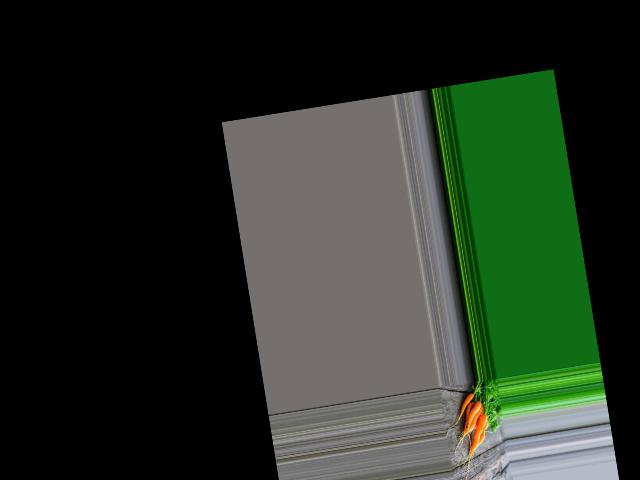carrot: (464, 409, 493, 452)
